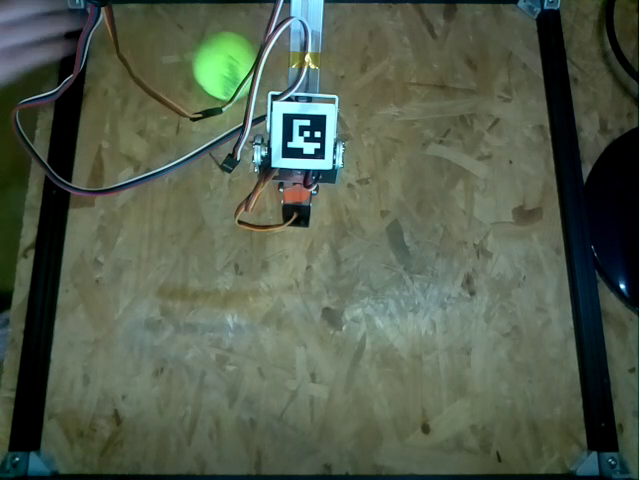tennis_ball: (191, 32, 262, 98)
